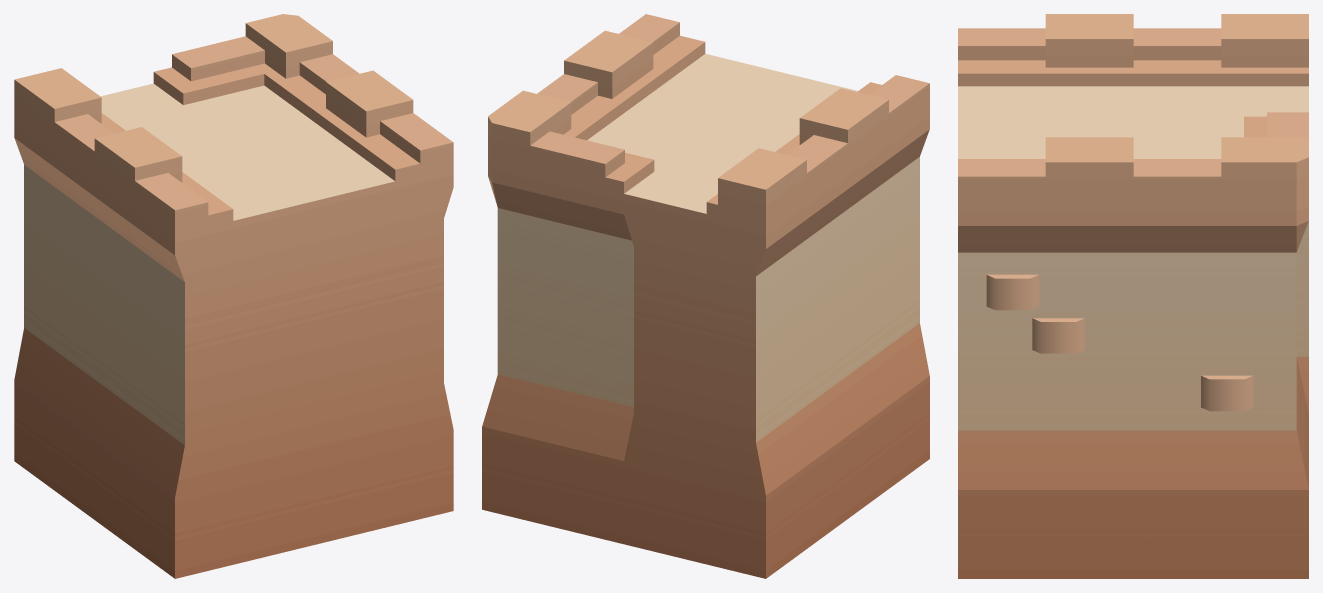
Rendered from wall-to-narrow.glb.
3 views of the same model, side by side, from view 1: azimuth 30°, elevation 25°; view 2: azimuth 150°, elevation 25°; view 3: azimuth 270°, elevation 25° (orthographic). The views are drawn at different scales.
Parts seen in each view (by area): view 1: wall-to-narrow; view 2: wall-to-narrow; view 3: wall-to-narrow.
Part boxes in pixels (left/top/right/bottom): wall-to-narrow: left=14, top=14, right=453, bottom=578; wall-to-narrow: left=482, top=14, right=929, bottom=578; wall-to-narrow: left=958, top=14, right=1308, bottom=578.
Size of the model in its own units: 1 by 1.31 by 1.
1 material, 1 textured.
